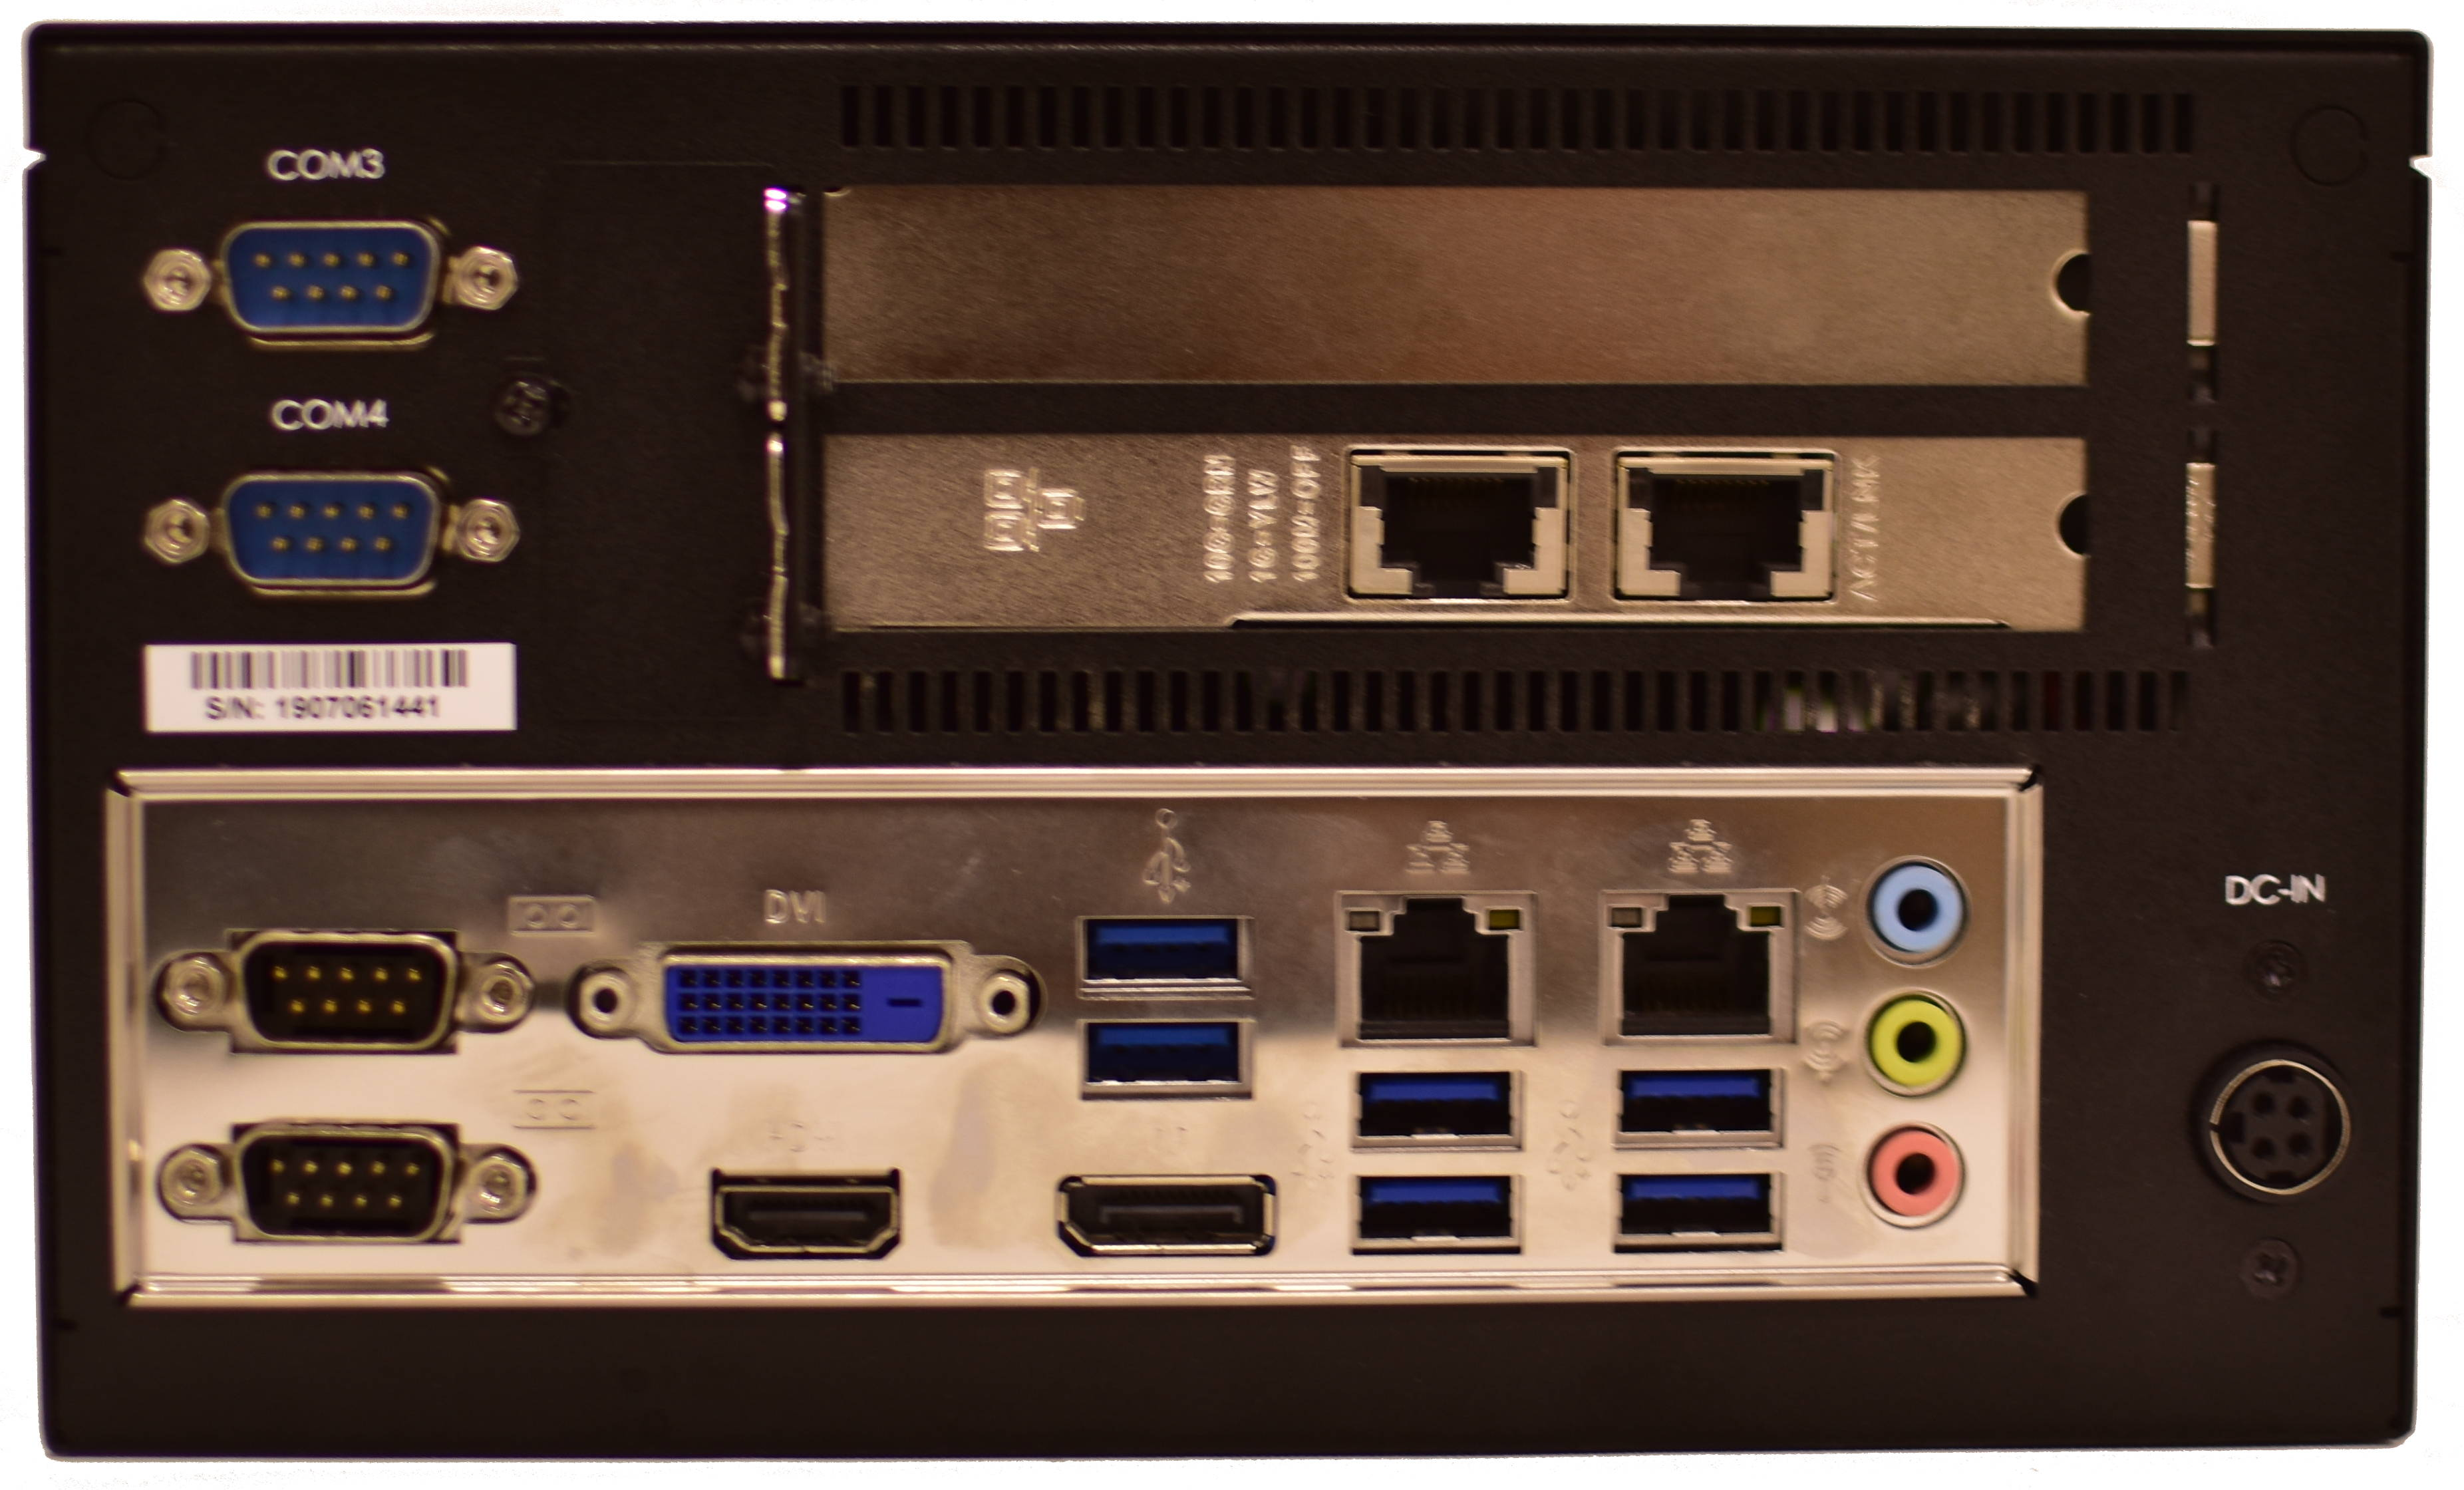DVI: (642, 945, 968, 1061)
Ethernet: (1348, 454, 1572, 602), (1616, 456, 1837, 603), (1603, 888, 1799, 1048), (1336, 895, 1536, 1048)
HDMI: (697, 1163, 894, 1261)
USB: (1616, 1173, 1795, 1258), (1357, 1163, 1522, 1253), (1079, 911, 1250, 990)
